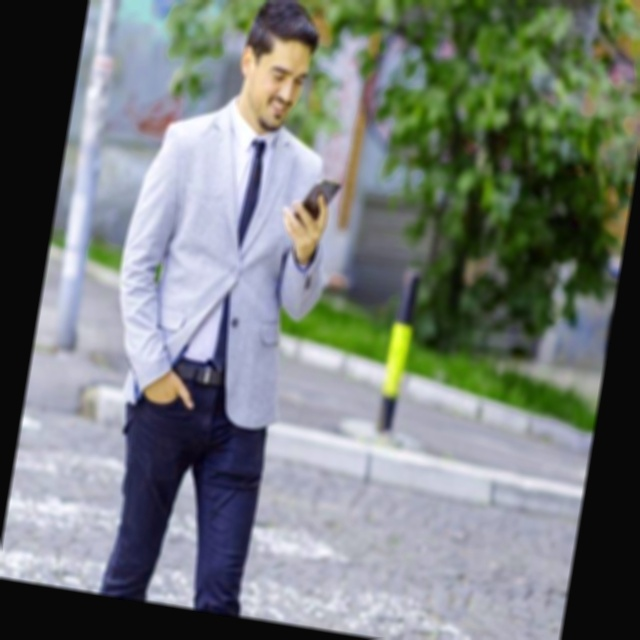Sin_Casco_Mascarrilla: (230, 0, 324, 134)
Sin_Chaleco: (116, 108, 330, 396)
